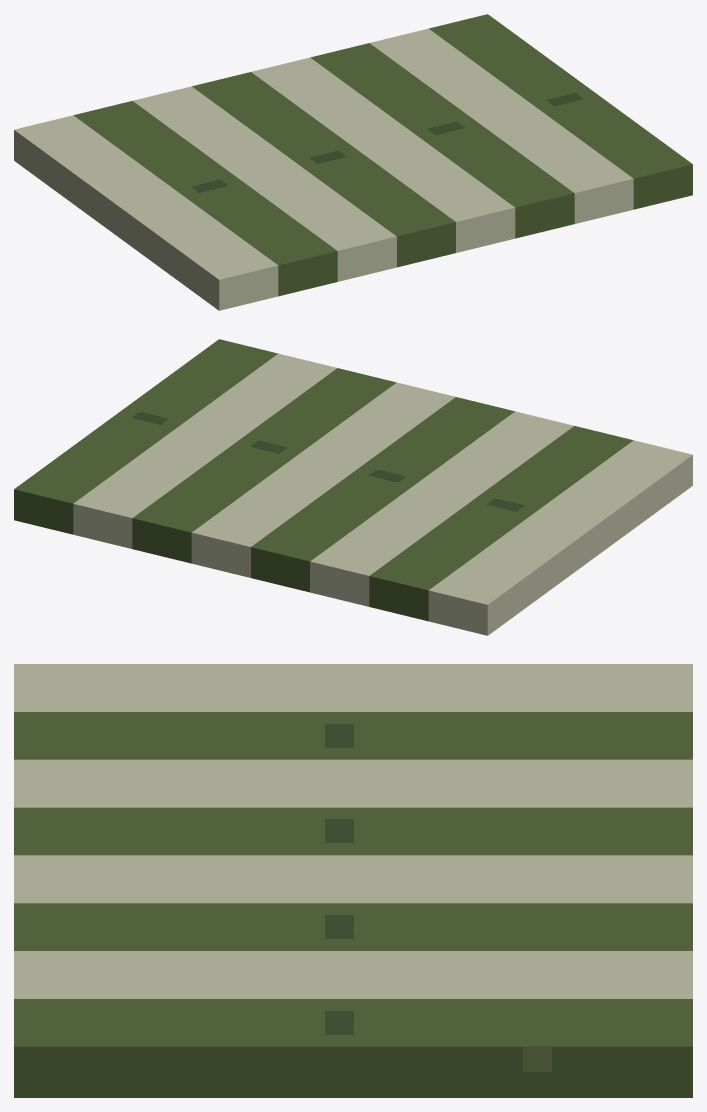
File: shop_awning.gltf
3 views of the same model, one above another, from view 1: azimuth 30°, elevation 25°; view 2: azimuth 150°, elevation 25°; view 3: azimuth 270°, elevation 25° (orthographic). The views are drawn at different scales.
Visible parts, largest first — view 1: awning (×8); view 2: awning (×8); view 3: awning (×8).
Part boxes in pixels (bbox=[...]): awning (×8): bbox=[14, 14, 692, 310]; awning (×8): bbox=[14, 339, 692, 635]; awning (×8): bbox=[14, 664, 692, 1097].
Size of the model in its own units: 2 by 0.125 by 1.5.
2 materials, 2 textured.
